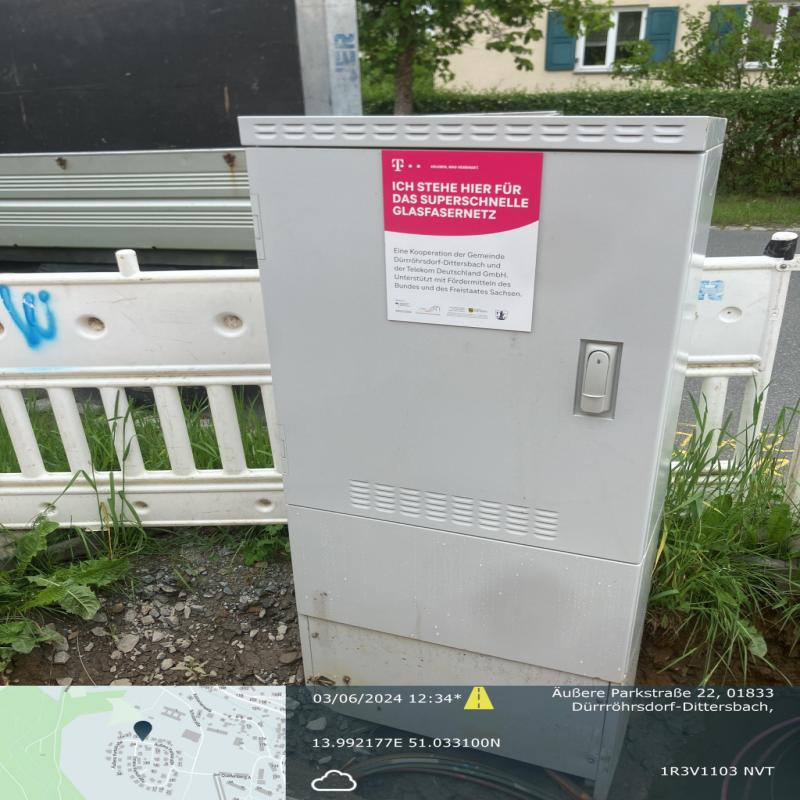NT-Gehause: (242, 117, 721, 692)
Steaker: (377, 150, 543, 330)
